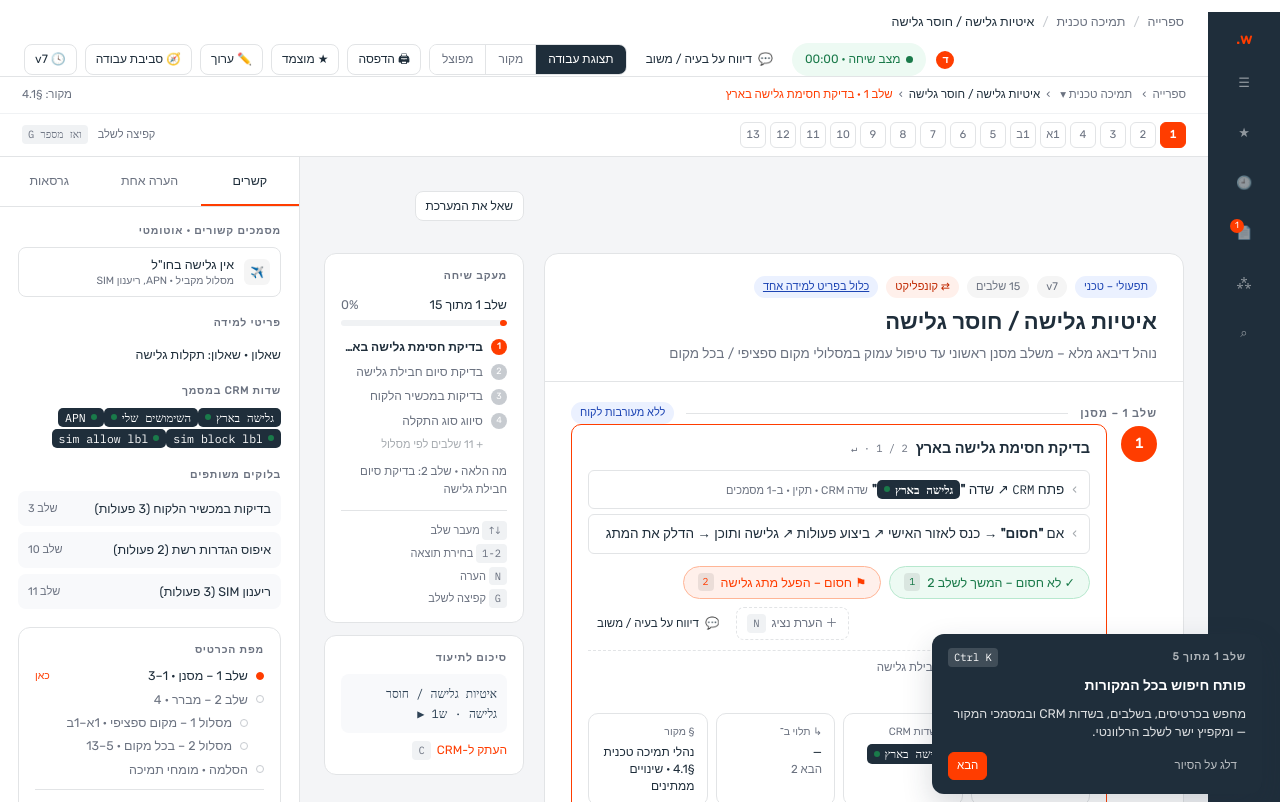
Test: W6 article mounts › switches to the source pane and back
Expected: the heading "איטיות גלישה / חוסר גלישה" is shown, [885, 308, 1157, 335]
What coordinates should you click on to do the following:
click the button "מקור"
I would click on:
 (511, 60)
Its box is [486, 45, 536, 74].
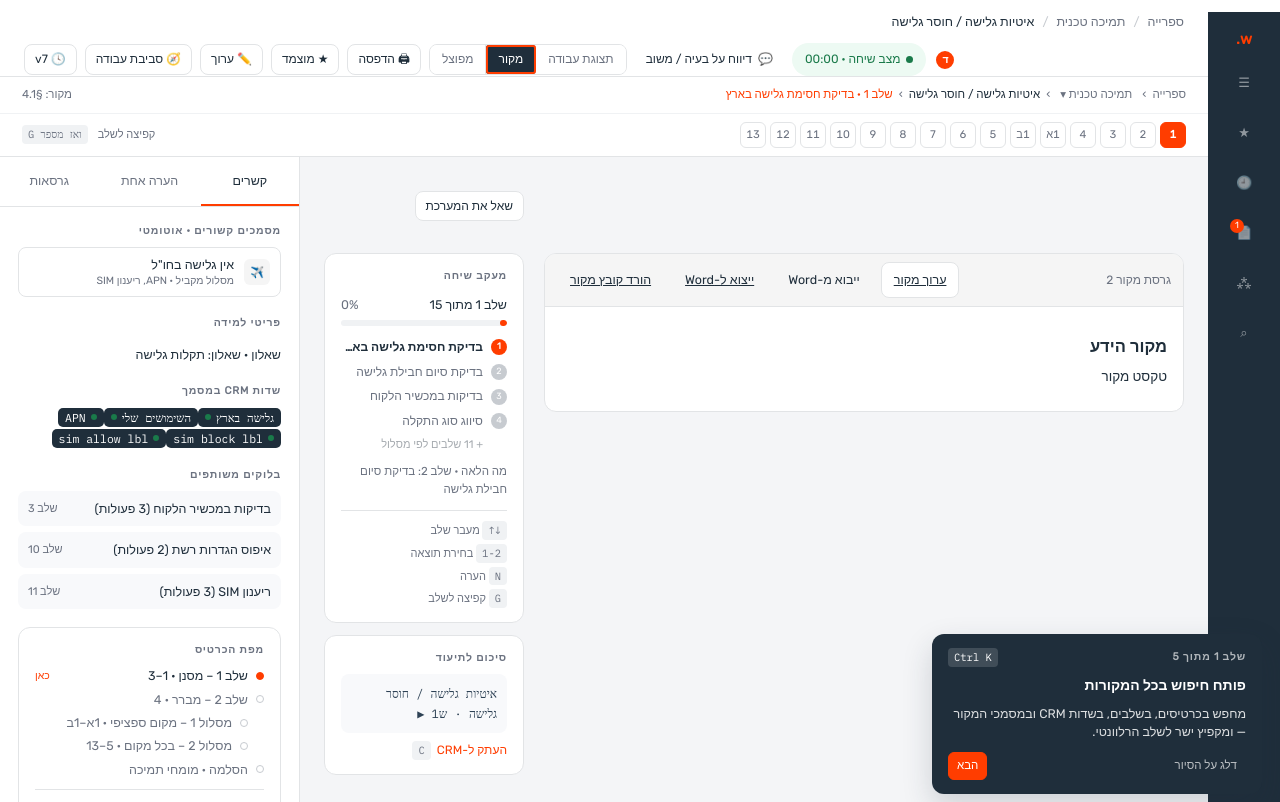
Now the text "טקסט מקור" is shown, box [1101, 368, 1167, 384]
What coordinates should you click on to do the following:
click the button "תצוגת עבודה"
I would click on:
 (581, 60)
Its box is [536, 45, 626, 74].
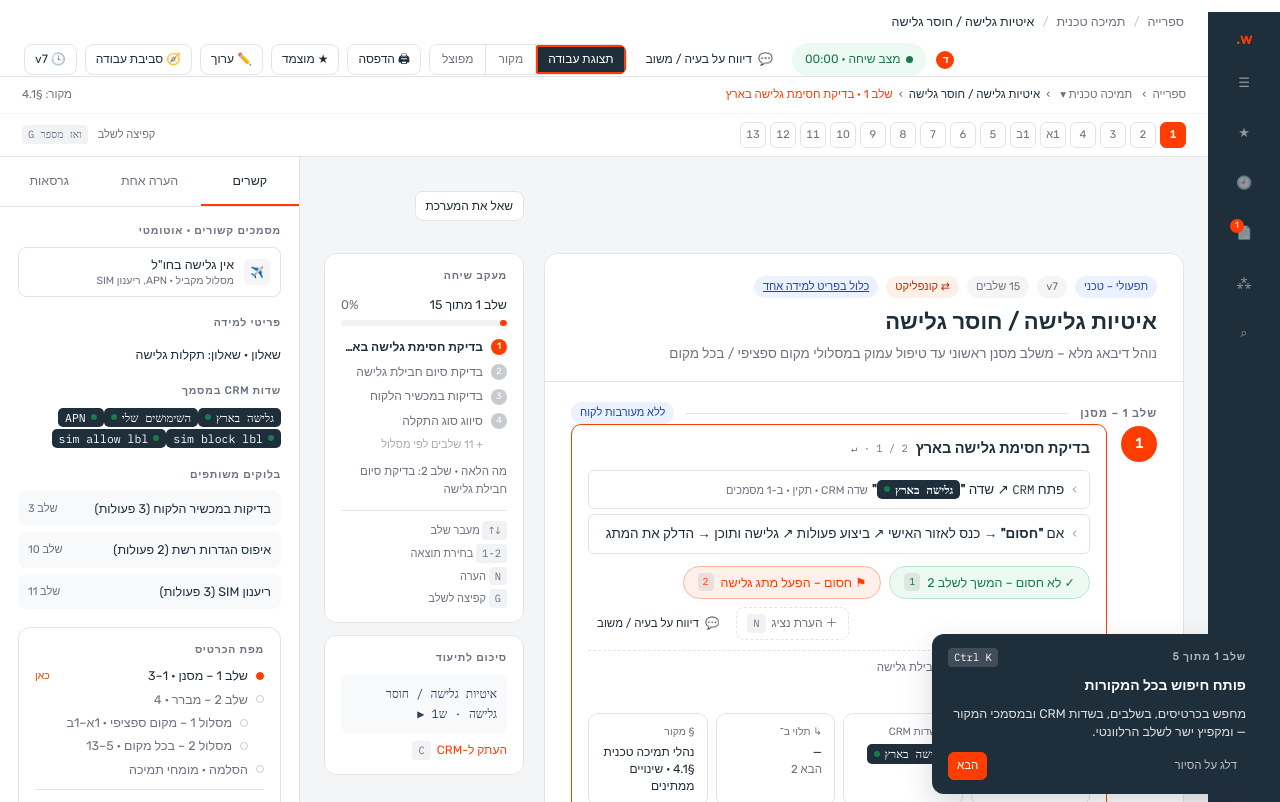
Now the heading "איטיות גלישה / חוסר גלישה" is shown, box [885, 308, 1157, 335]
